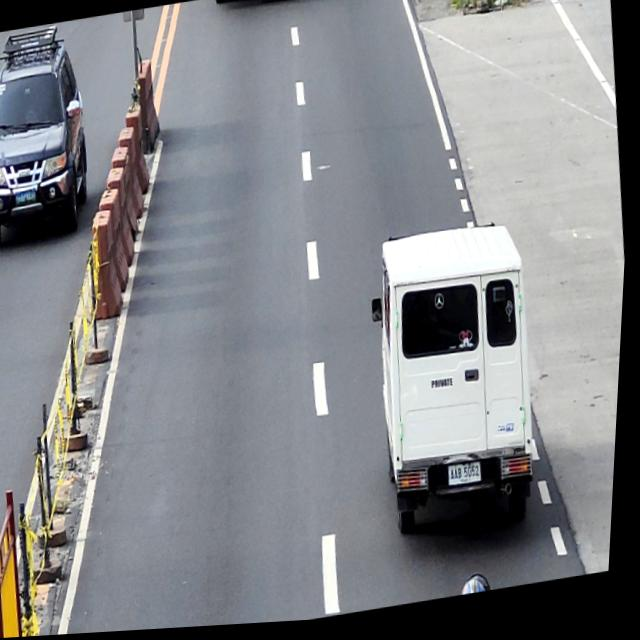Car: (357, 219, 555, 547), (0, 20, 101, 250)
License-Plate: (451, 462, 489, 493), (15, 187, 40, 206)
